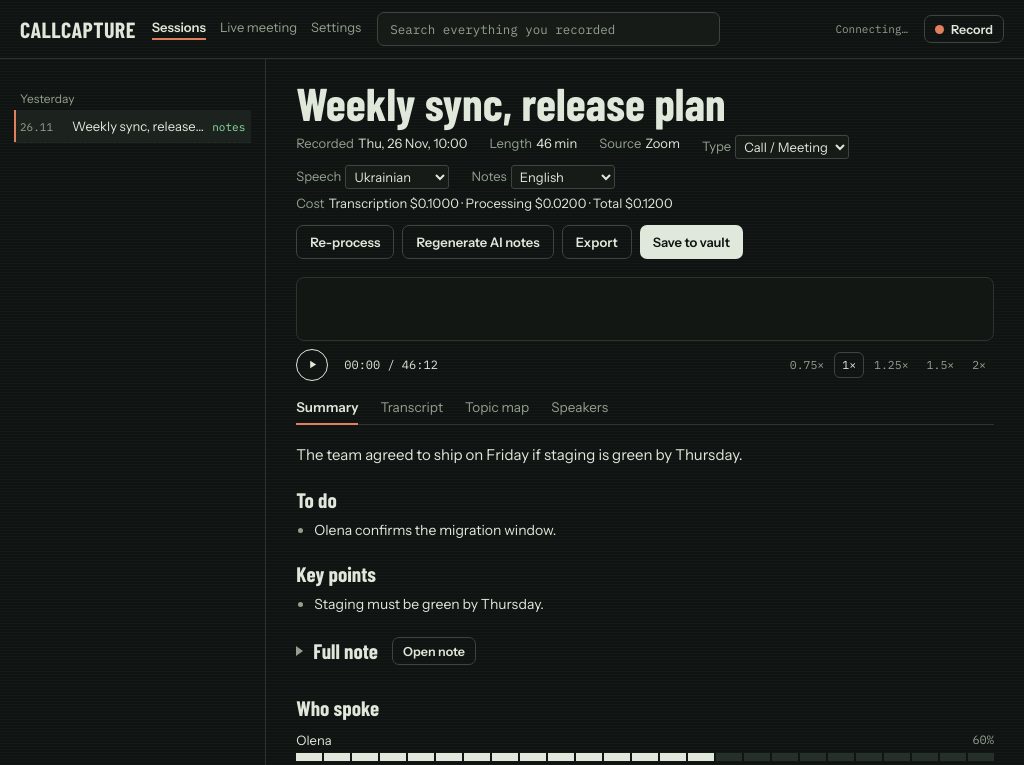
Test: SessionDetail › folds the full note by default, below the structured lists
Check: the link "the plan" is not shown
Click the button "Full note" at [337, 651], box top-left (296, 638), bottom-right (378, 663)
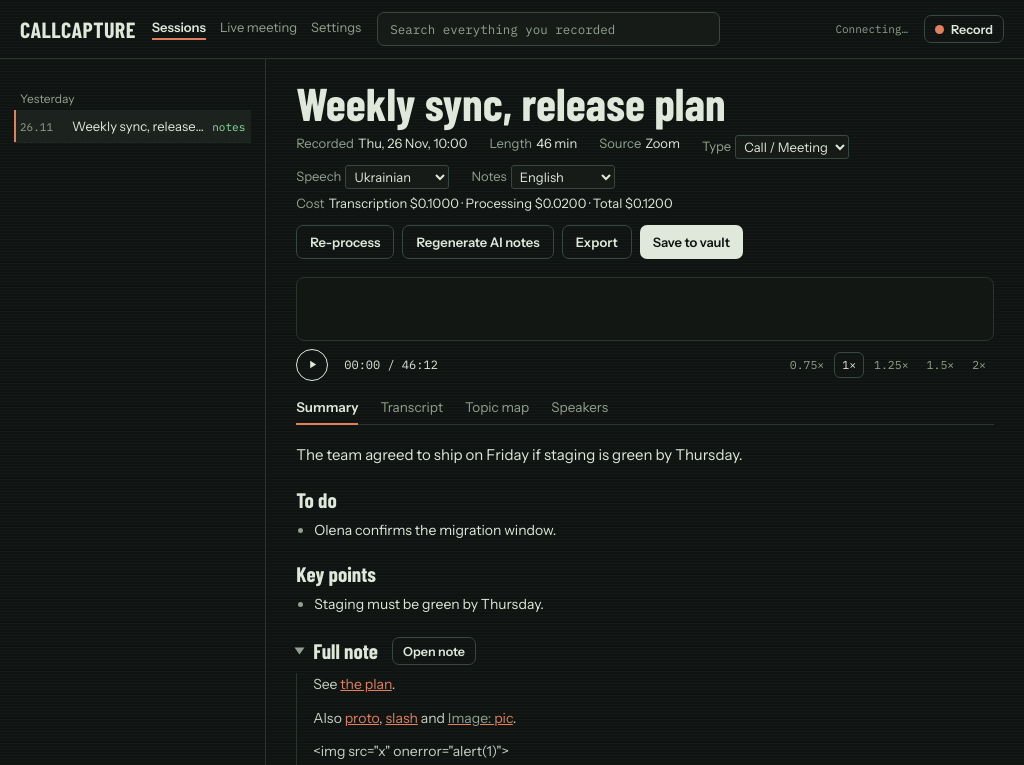
Check: the button "Full note" is expanded
Check: the link "the plan" is shown, box top-left (340, 675), bottom-right (392, 693)
Click the button "Full note" at [337, 651], box top-left (296, 638), bottom-right (378, 663)
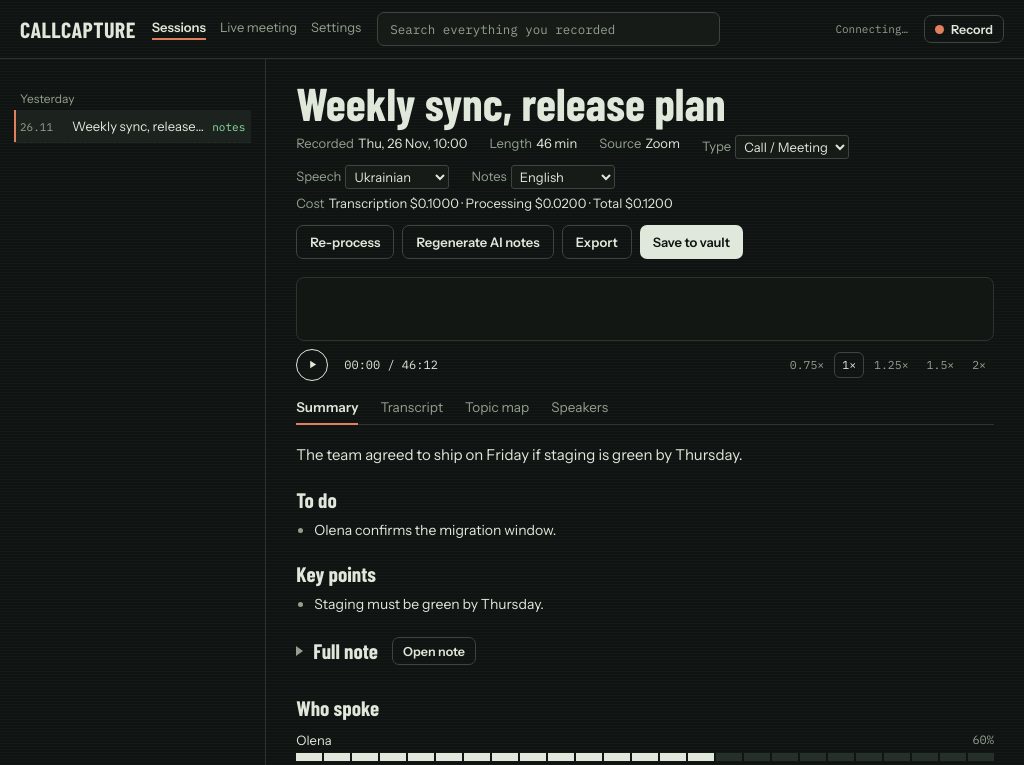
Check: the link "the plan" is gone
